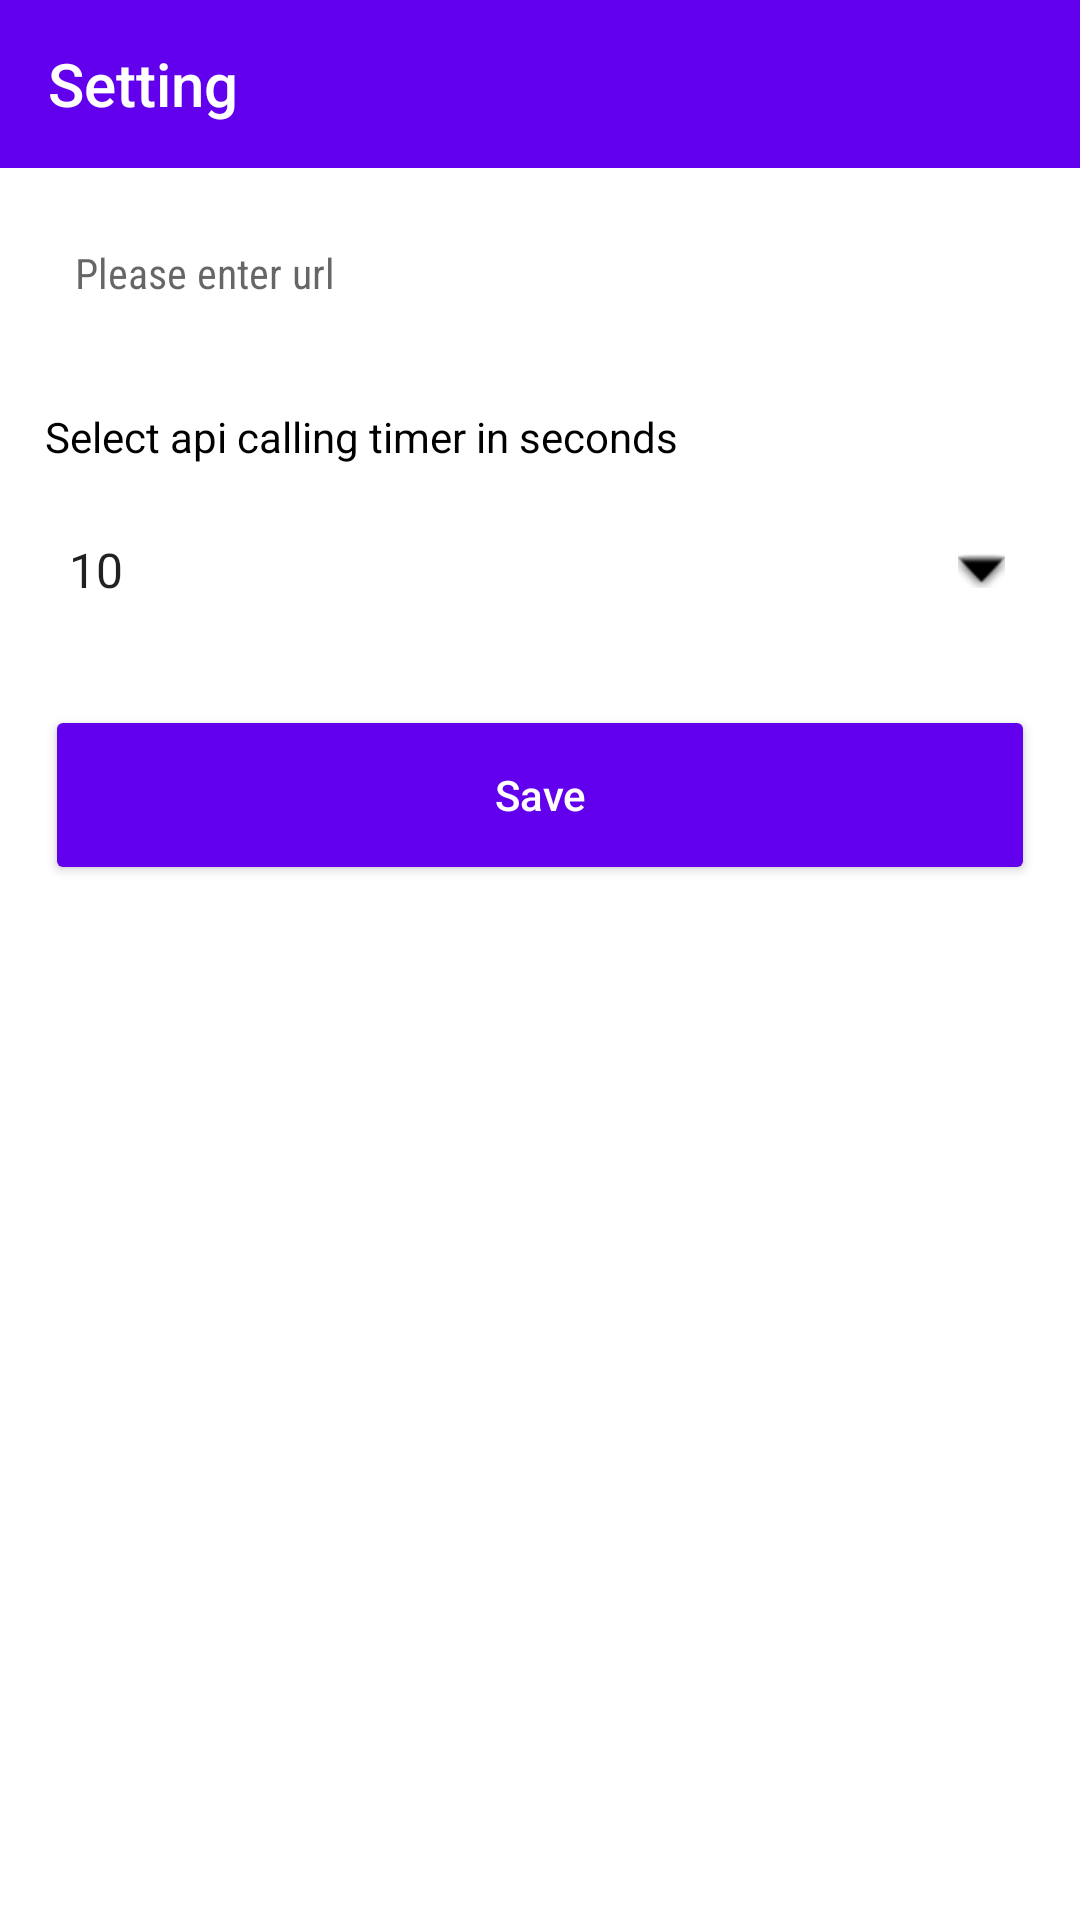

Point at icon controls on the screen. Image size 1080px x 1920px, points as (x=x, y=y).
arrow down float: (x=981, y=571)
